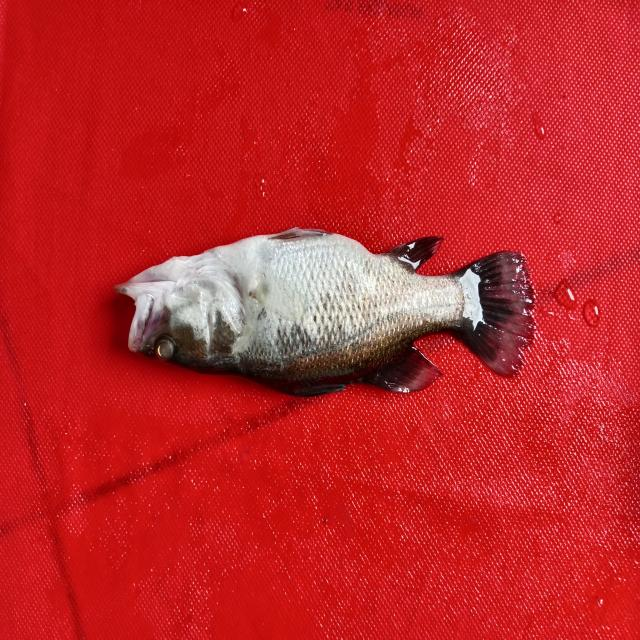ikan: (102, 207, 558, 428)
